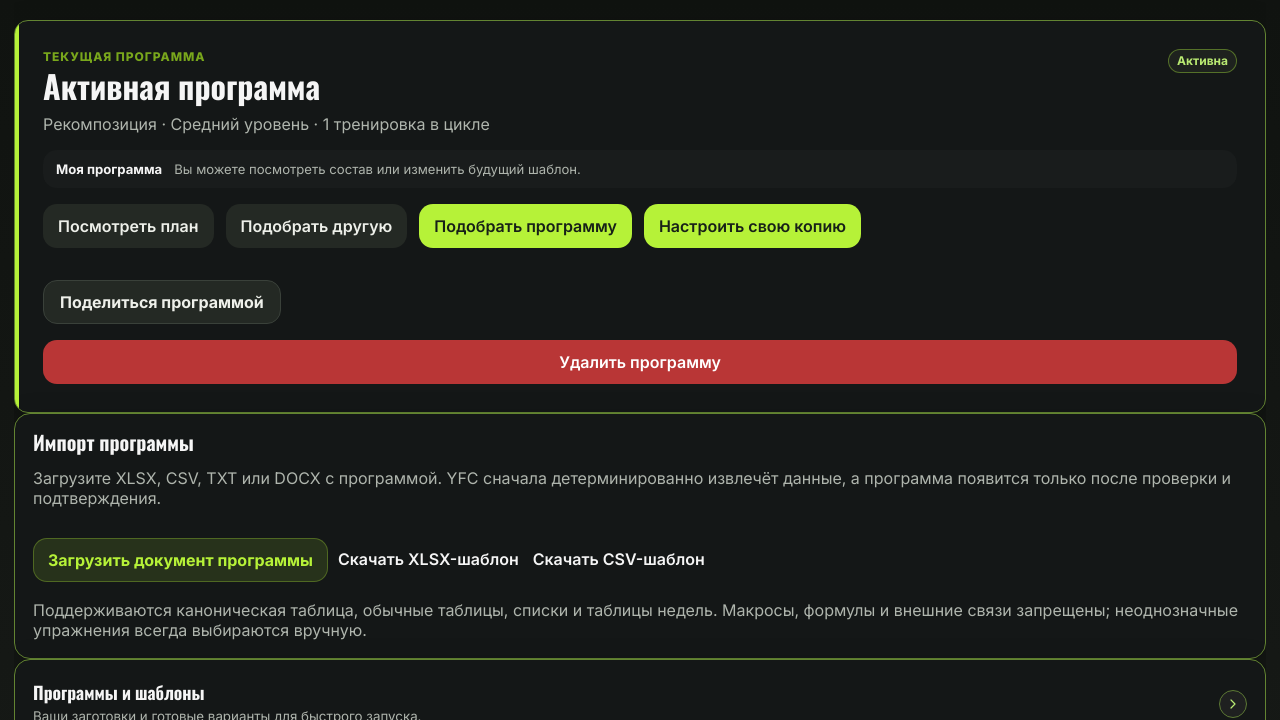
Test: TemplatesList editing › maps an in-progress deletion conflict to the user-facing message
Click the button "Удалить программу" at (640,362), box x1=43 y1=340 x2=1237 y2=384
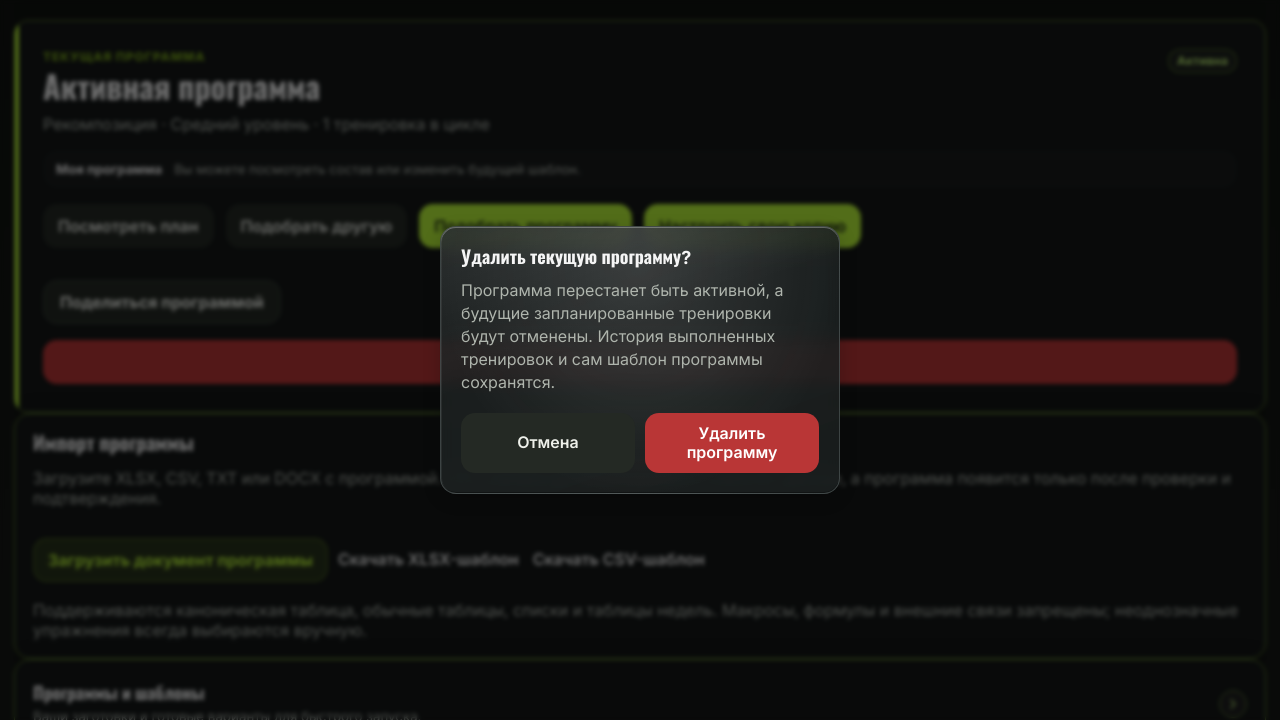
Click the button "Удалить программу" at (732,443), box x1=645 y1=413 x2=819 y2=473
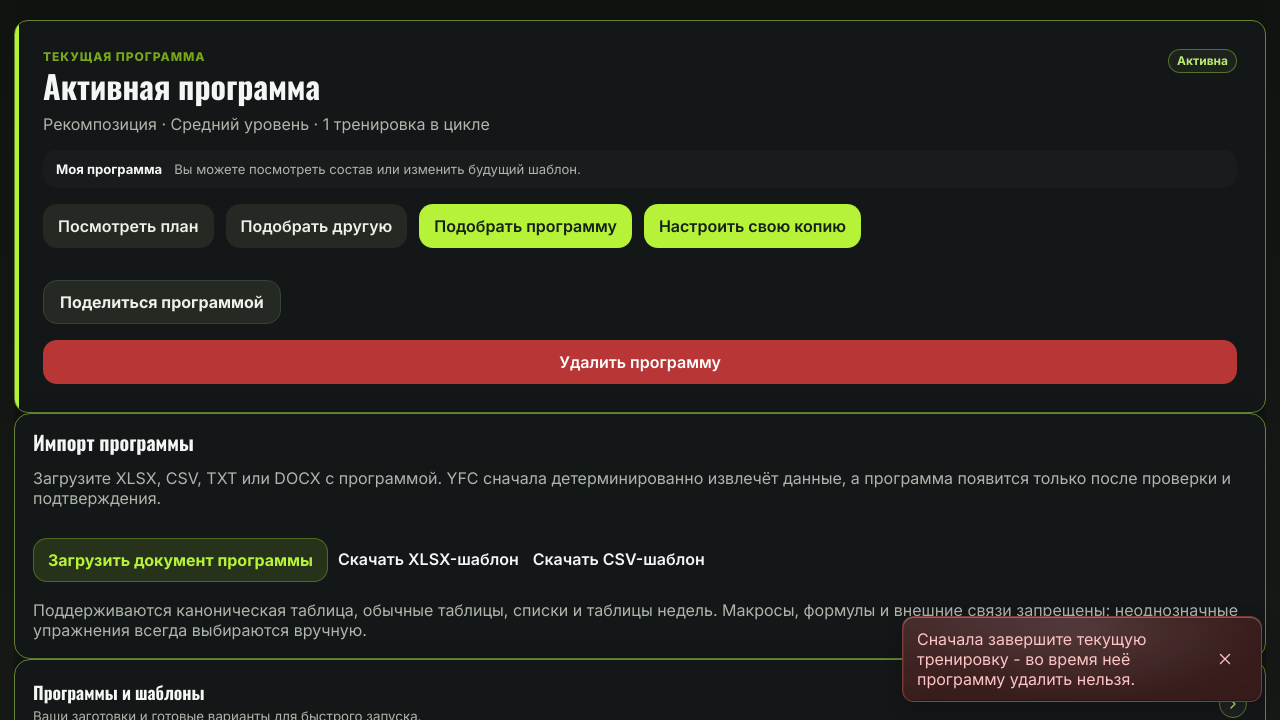
Check: the heading "Активная программа" is shown, box x1=43 y1=69 x2=320 y2=108
Check: the message reads "Сначала завершите текущую тренировку - во время неё программу удалить нельзя.", box x1=917 y1=629 x2=1146 y2=689
